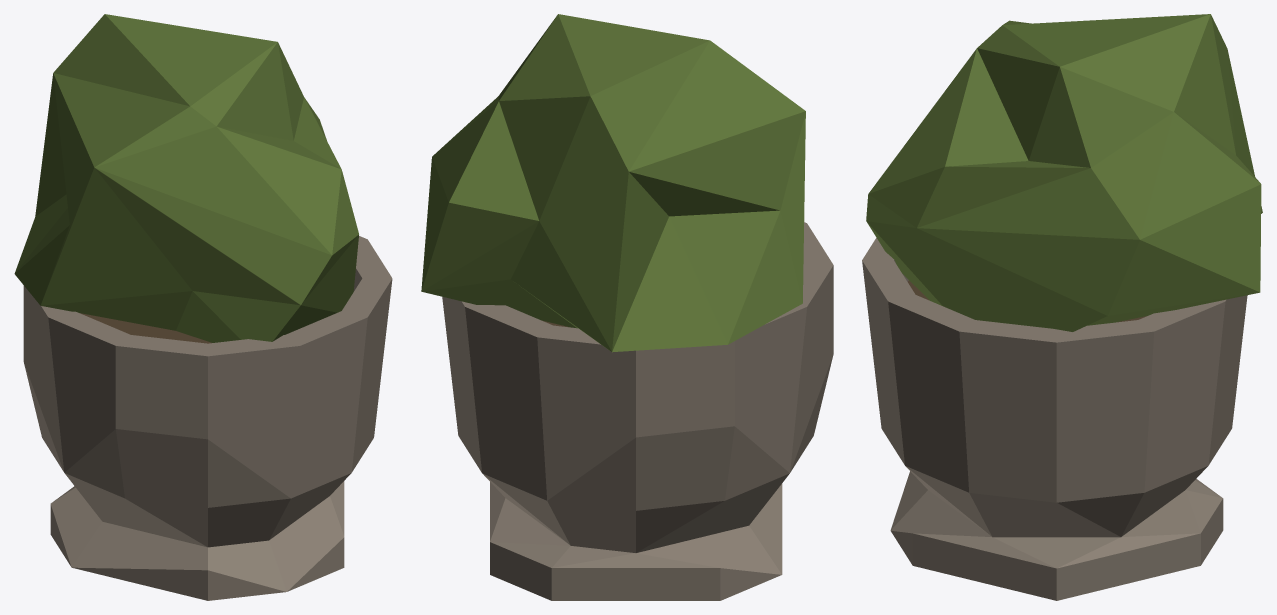
The model's file is SM_Prop_PotPlant_01.fbx.
The picture shows the model from 3 angles, left to right: view 1: azimuth 30°, elevation 25°; view 2: azimuth 150°, elevation 25°; view 3: azimuth 270°, elevation 25°; orthographic projection. The views are drawn at different scales.
Visible parts, largest first — view 1: SM_Prop_PotPlant_01; view 2: SM_Prop_PotPlant_01; view 3: SM_Prop_PotPlant_01.
Part boxes in pixels (left/top/right/bottom): SM_Prop_PotPlant_01: left=14, top=14, right=392, bottom=600; SM_Prop_PotPlant_01: left=421, top=14, right=833, bottom=600; SM_Prop_PotPlant_01: left=862, top=14, right=1262, bottom=600.
Bounding box in the file's own units: 56.53 × 79.75 × 57.84.
